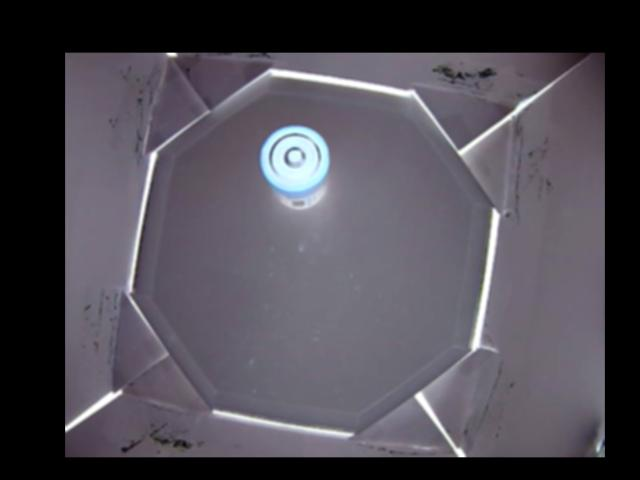Battery: (261, 125, 328, 208)
